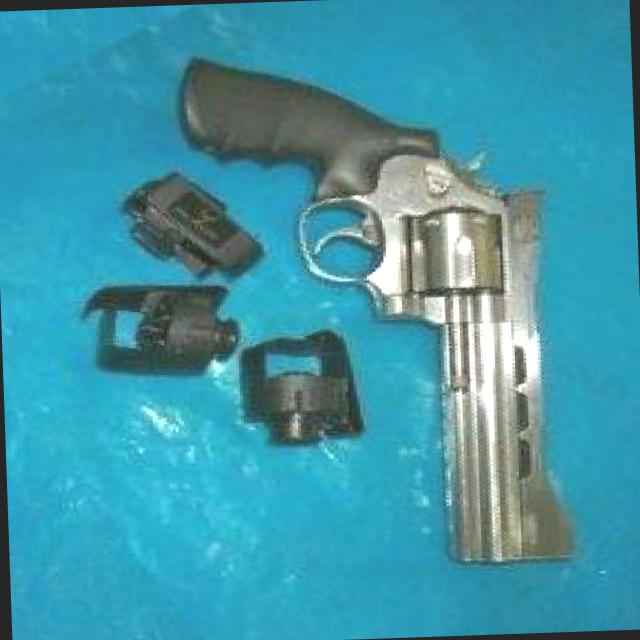handgun: (173, 29, 583, 576)
